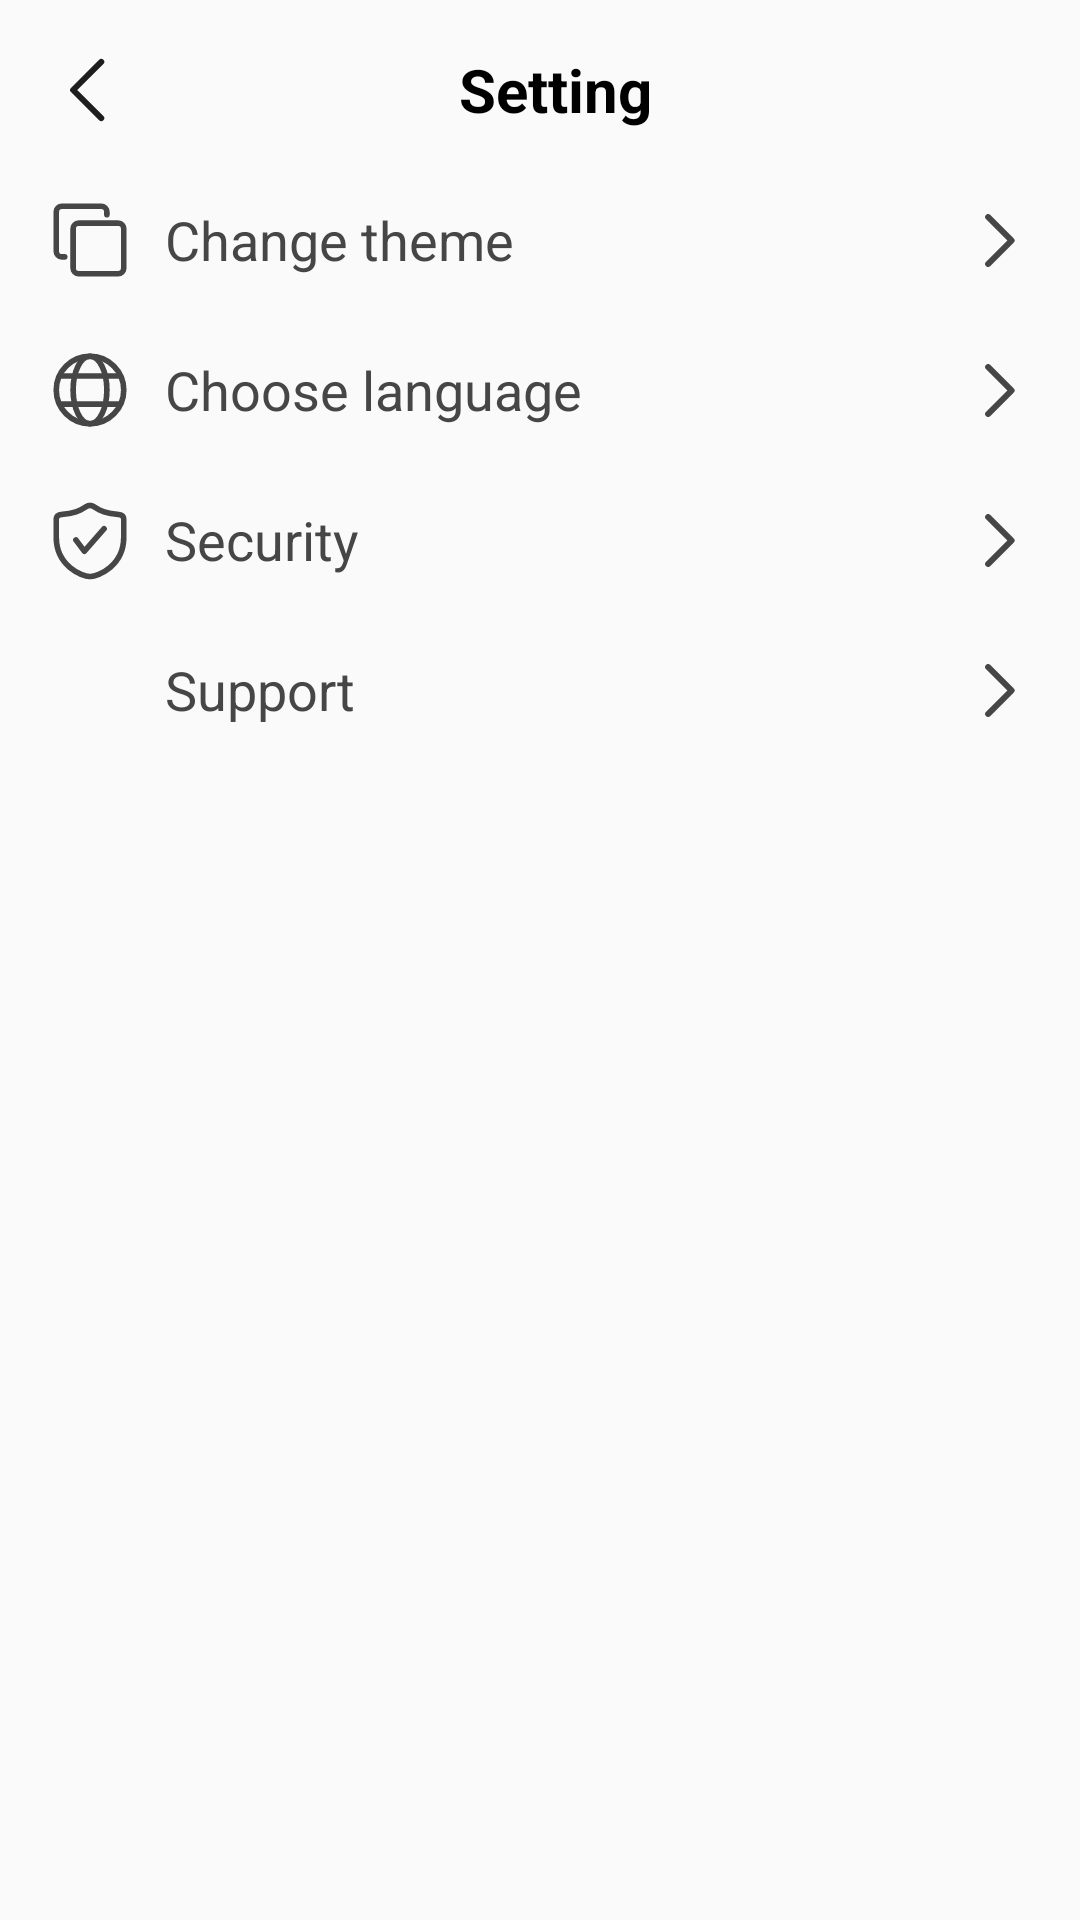

Named icons in this screenshot (1080x1920) and their centers, (x,y):
arrow: (1000,240), (1000,390), (1000,540), (1000,690)
back: (87,90)
change language: (90,390)
